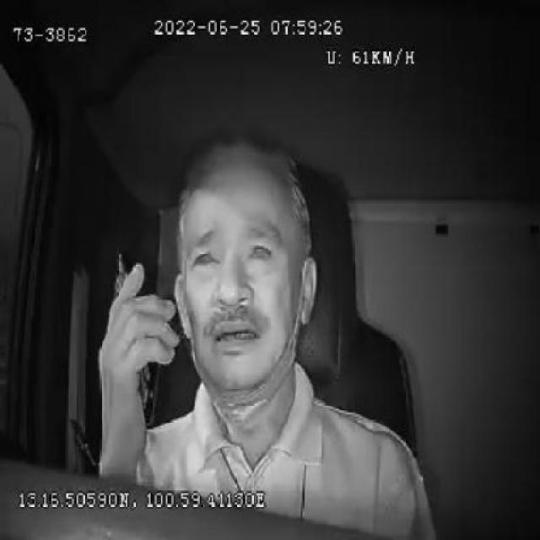phone: (111, 250, 159, 428)
